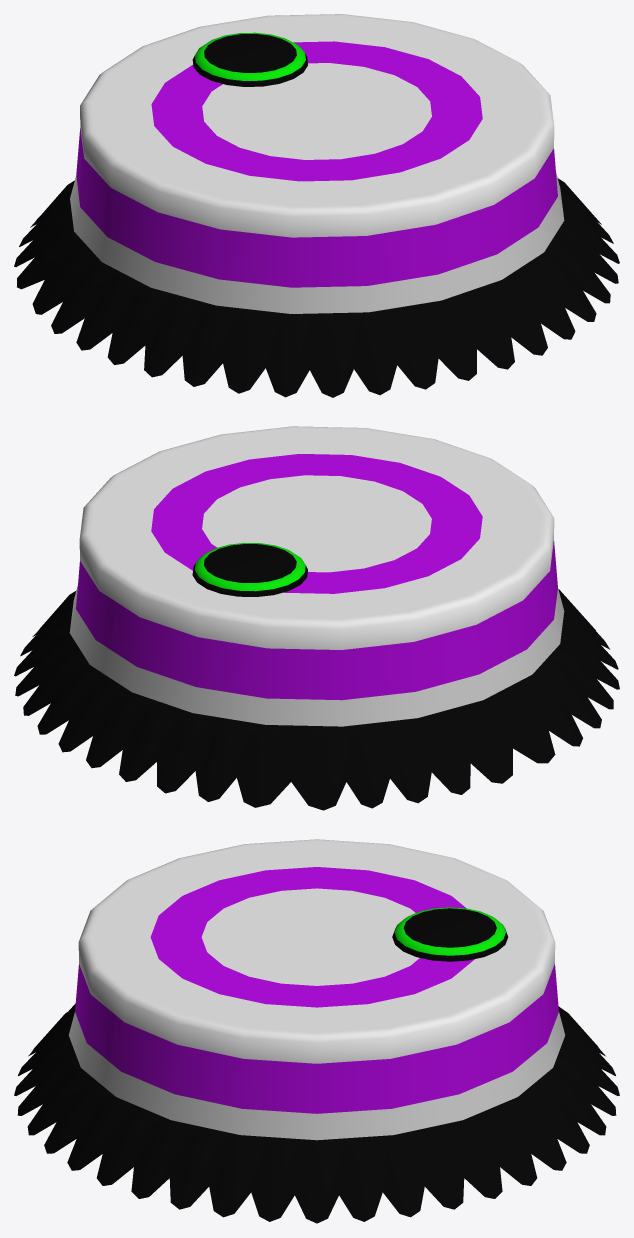
Rendered from roboCleaner_2.fbx.
3 renders of one model, top to bottom at view 1: azimuth 30°, elevation 25°; view 2: azimuth 150°, elevation 25°; view 3: azimuth 270°, elevation 25°, orthographic.
Visible parts, largest first — view 1: body, brush, eye; view 2: body, brush, eye; view 3: body, brush, eye.
Part boxes in pixels (box(x1,y1,x2,y2)): body: box(70, 14, 564, 313); brush: box(14, 178, 619, 397); eye: box(192, 32, 307, 86); body: box(69, 426, 564, 726); brush: box(14, 589, 619, 810); eye: box(192, 543, 307, 596); body: box(68, 839, 565, 1140); brush: box(14, 1003, 619, 1223); eye: box(392, 907, 508, 961).
Size of the model in its own units: 3.1 by 0.9446 by 3.1.
